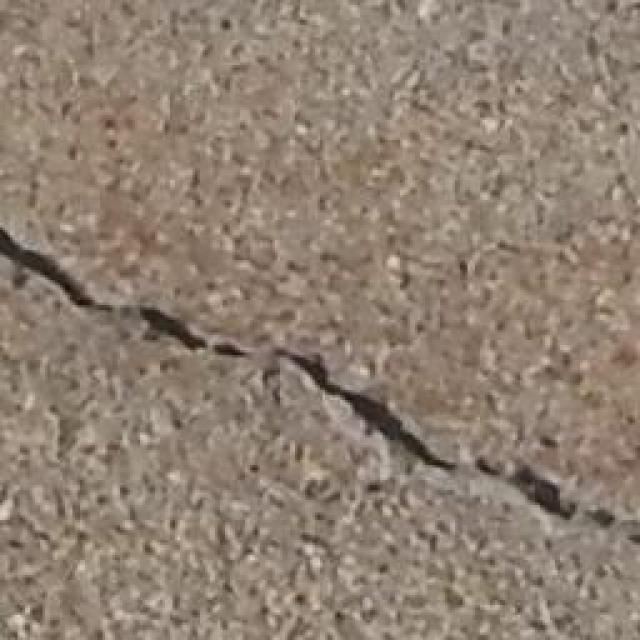concrete-crack: (0, 214, 640, 559)
